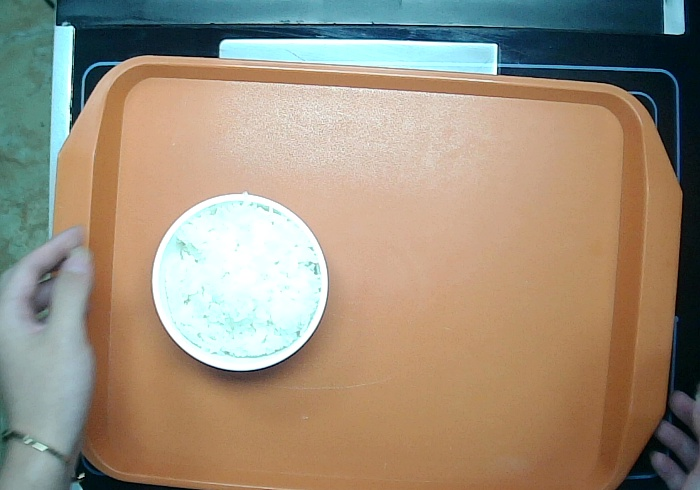HZYJPL-Fan_Wan: (150, 191, 330, 374)
